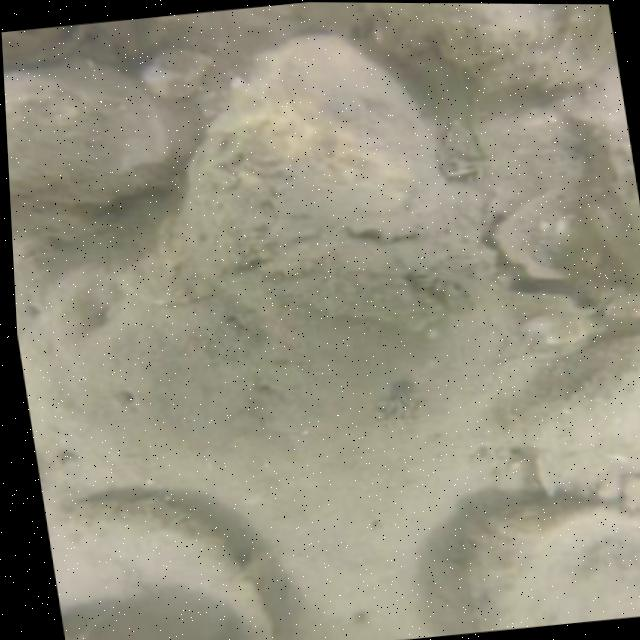Oyster-Indeterminate: (172, 29, 487, 339), (45, 493, 285, 640), (3, 55, 174, 205), (452, 497, 640, 632), (371, 3, 617, 93), (2, 23, 90, 64)
